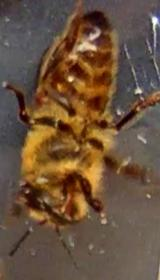varroa_mite: (32, 90, 51, 110)
